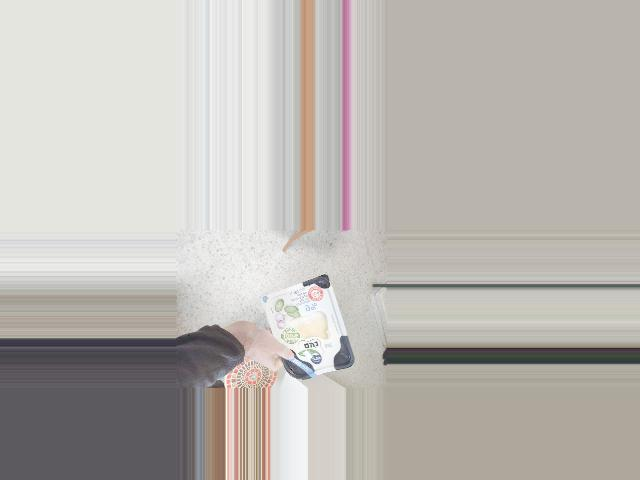cheese: (264, 274, 355, 380)
